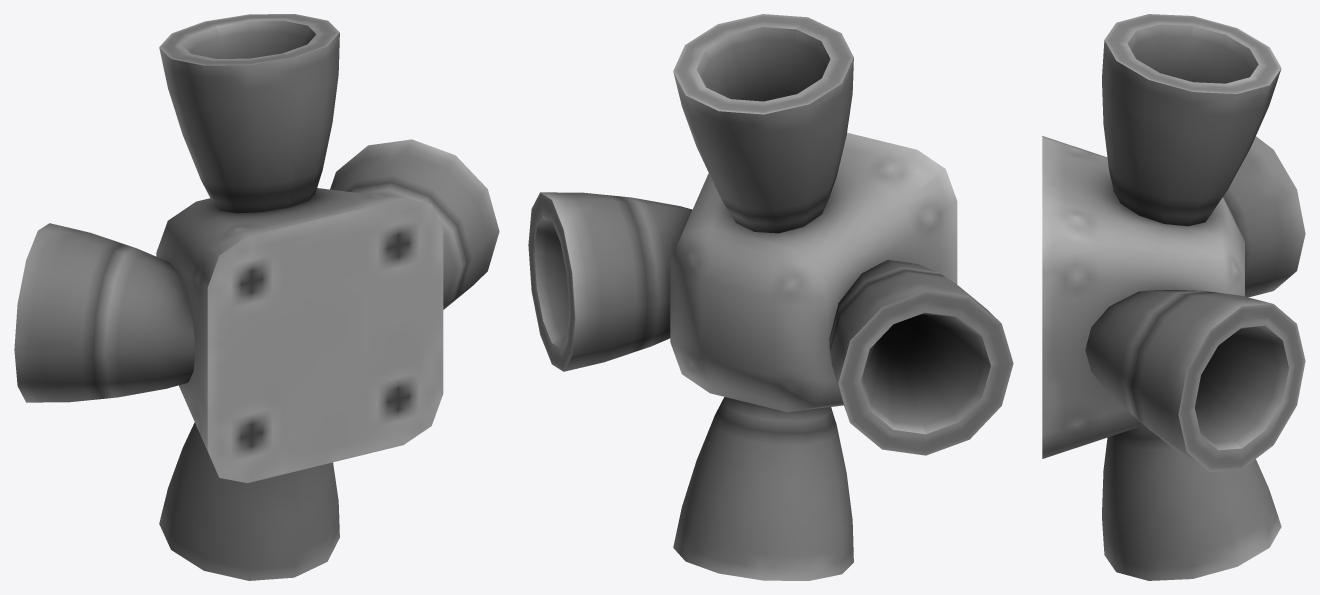
File: rcs4_45.fbx
3 renders of one model, left to right at view 1: azimuth 30°, elevation 25°; view 2: azimuth 150°, elevation 25°; view 3: azimuth 270°, elevation 25°, orthographic.
Parts seen in each view (by area): view 1: mesh; view 2: mesh; view 3: mesh.
Boxes of the visible parts, bbox=[...] form: mesh: bbox=[14, 14, 499, 580]; mesh: bbox=[528, 14, 1013, 580]; mesh: bbox=[1042, 14, 1305, 580].
Bounding box in the file's own units: 0.1544 × 0.1579 × 0.0731.
1 material, 1 textured.
